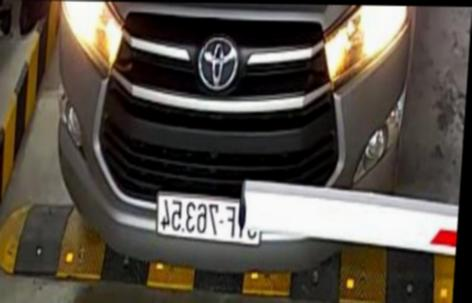License_Plate: (148, 192, 272, 244)
